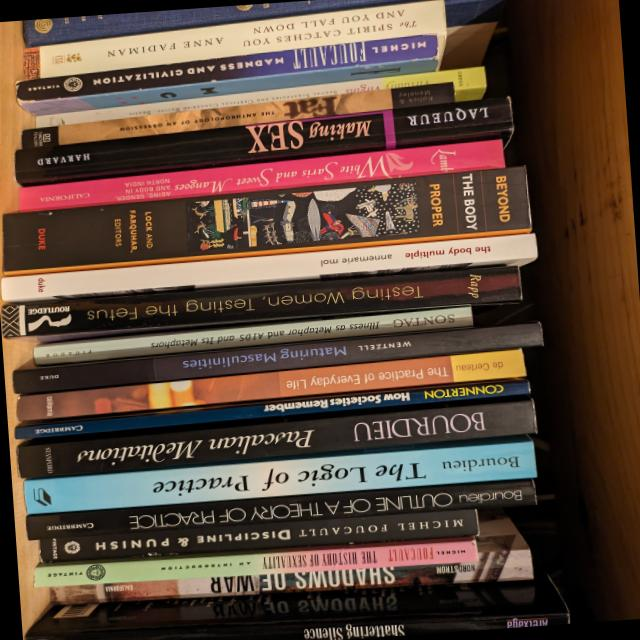book: (0, 165, 531, 277), (51, 511, 532, 616), (11, 96, 514, 186), (16, 395, 536, 480), (21, 434, 535, 519), (0, 261, 521, 344), (11, 319, 543, 395), (23, 569, 568, 640), (0, 232, 537, 304), (14, 348, 525, 422), (16, 138, 504, 213), (14, 32, 439, 118), (21, 0, 447, 79), (13, 376, 529, 440), (24, 478, 535, 540), (34, 65, 487, 131), (21, 81, 454, 150), (31, 304, 473, 366), (38, 508, 477, 565), (31, 536, 475, 588)
